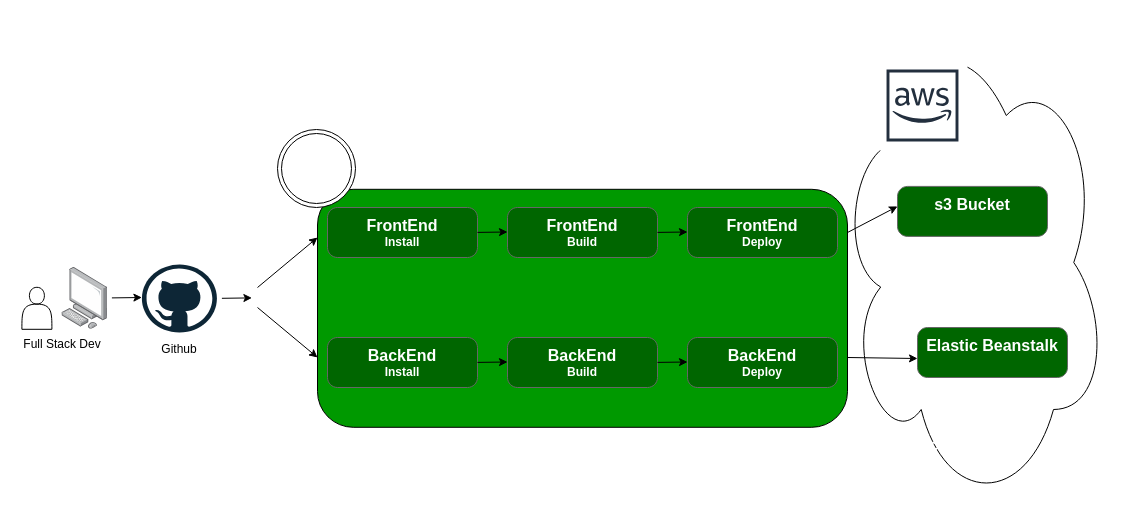
This 1125x525 diagram has some shape labels left out. The box of each missing label's shape, as (x1, y1, x2, y2) in pixels:
AWS Cloud: (876, 60, 968, 150)
CircleCI: (276, 128, 356, 208)
